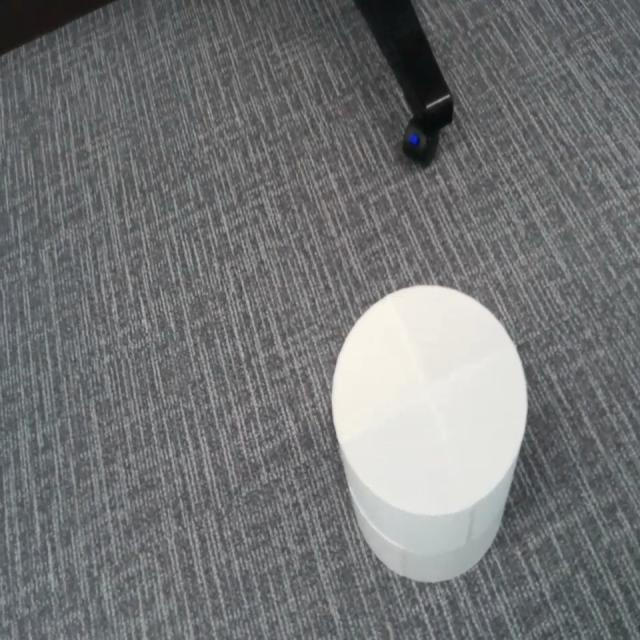cylinder: (332, 284, 530, 582)
